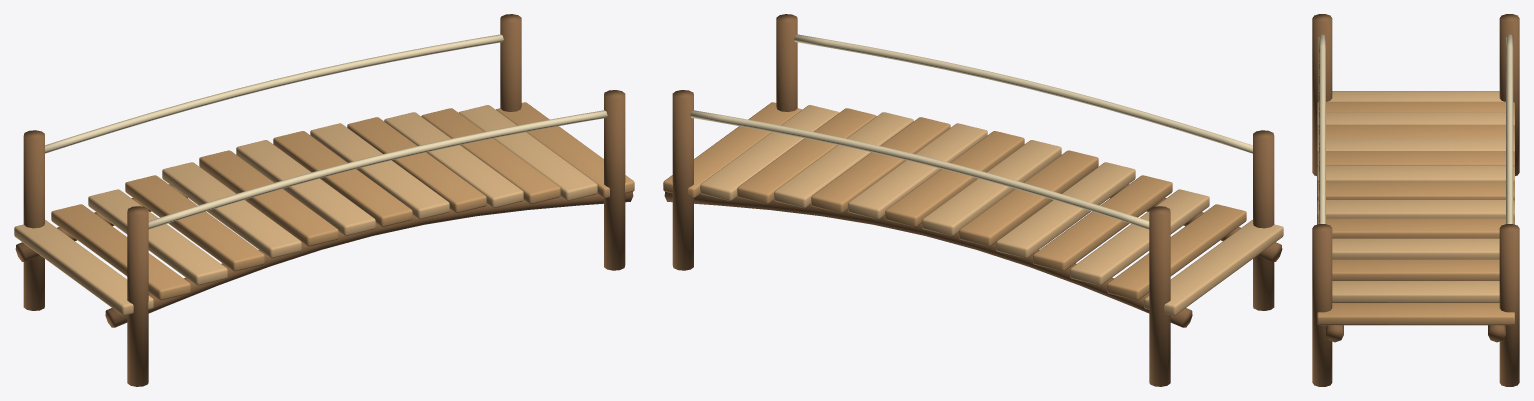
File: bridge-built.glb
The picture shows the model from 3 angles, left to right: view 1: azimuth 30°, elevation 25°; view 2: azimuth 150°, elevation 25°; view 3: azimuth 270°, elevation 25°; orthographic projection. The views are drawn at different scales.
Parts seen in each view (by area): view 1: bridge; view 2: bridge; view 3: bridge.
Boxes of the visible parts, x1,y1,x2,y2 form: bridge: (14,14,634,386); bridge: (663,14,1283,386); bridge: (1312,14,1519,386).
Bounding box in the file's own units: 3.02 × 0.9501 × 1.15.
